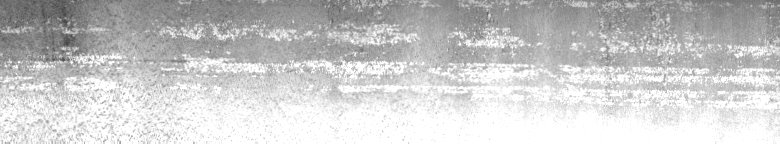hc: (4, 17, 92, 70)
